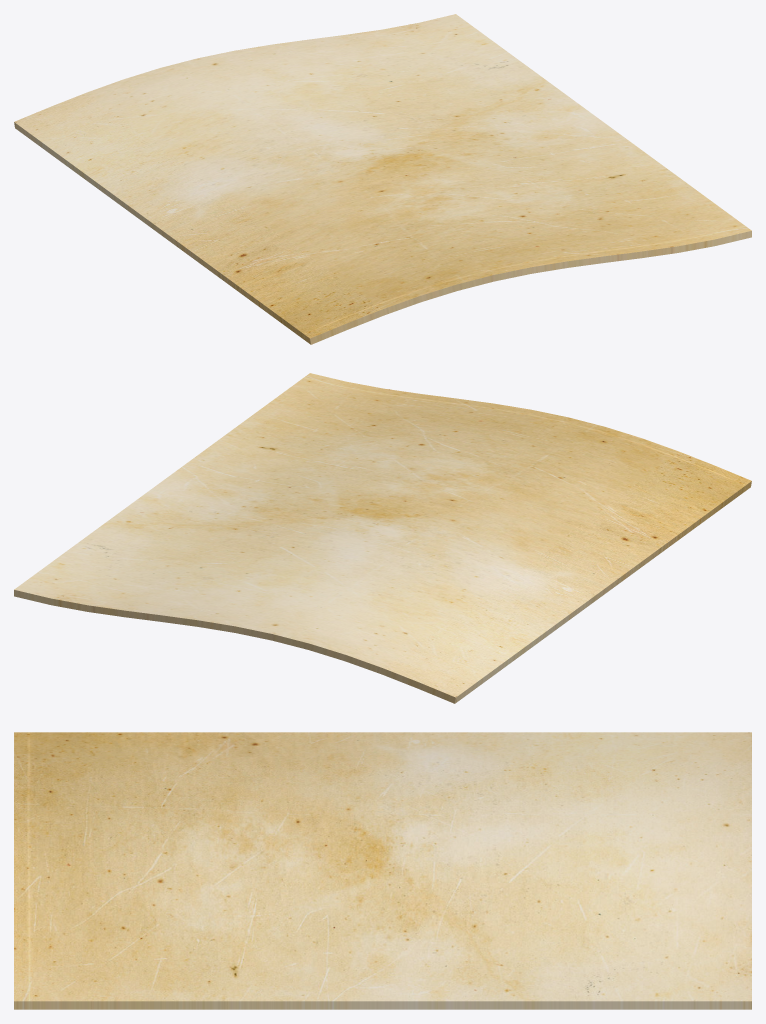
File: book_flip_001.fbx
The picture shows the model from 3 angles, top to bottom: view 1: azimuth 30°, elevation 25°; view 2: azimuth 150°, elevation 25°; view 3: azimuth 270°, elevation 25°; orthographic projection. The views are drawn at different scales.
Parts seen in each view (by area): view 1: book_GEO; view 2: book_GEO; view 3: book_GEO.
Part boxes in pixels (bbox=[...]): book_GEO: bbox=[14, 14, 751, 344]; book_GEO: bbox=[14, 373, 751, 703]; book_GEO: bbox=[14, 732, 751, 1009].
Bounding box in the file's own units: 12.51 × 0.6878 × 14.52.
Materials: 2 (2 with a texture image).
